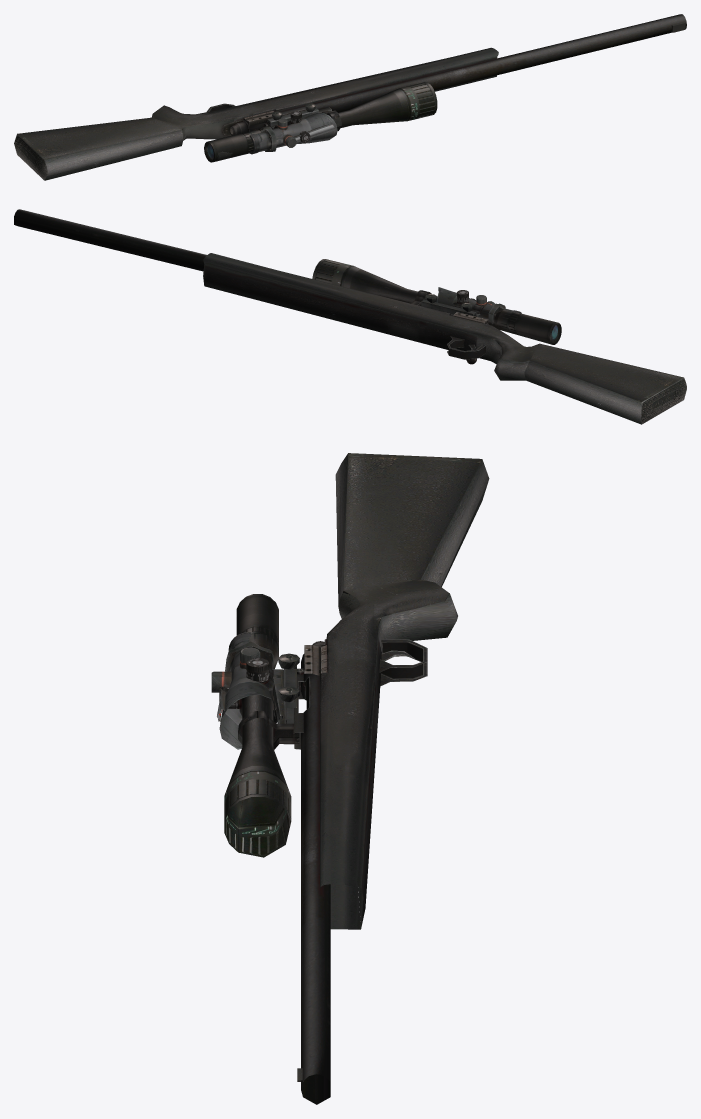
Rendered from viewmodel_remington700_mp_LOD0.obj.
3 renders of one model, top to bottom at view 1: azimuth 30°, elevation 25°; view 2: azimuth 150°, elevation 25°; view 3: azimuth 270°, elevation 25°, orthographic. The views are drawn at different scales.
Visible parts, largest first — view 1: mtl_weapon_remington700, mtl_weapon_acog; view 2: mtl_weapon_remington700, mtl_weapon_acog; view 3: mtl_weapon_remington700, mtl_weapon_acog.
Part boxes in pixels (bbox=[...]): mtl_weapon_remington700: bbox=[14, 14, 686, 180]; mtl_weapon_acog: bbox=[249, 103, 337, 154]; mtl_weapon_remington700: bbox=[14, 209, 686, 424]; mtl_weapon_acog: bbox=[421, 287, 521, 324]; mtl_weapon_remington700: bbox=[219, 453, 489, 1104]; mtl_weapon_acog: bbox=[211, 632, 299, 749].
Size of the model in its own units: 109 by 6.82 by 20.73.
